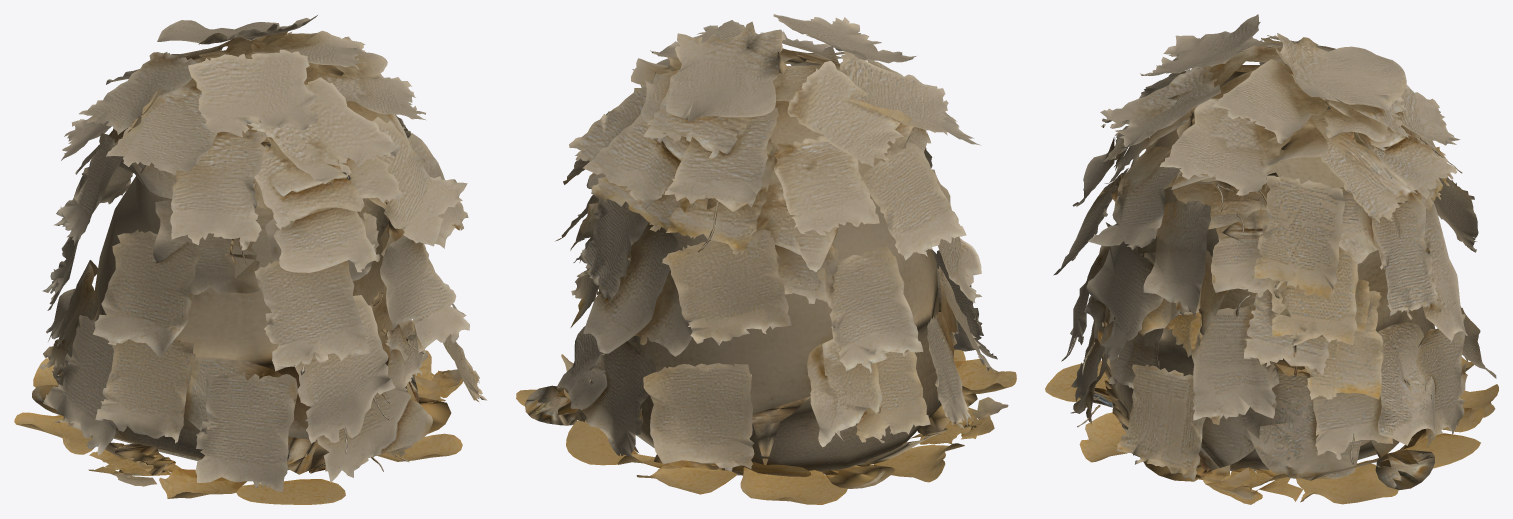
3 renders of one model, left to right at view 1: azimuth 30°, elevation 25°; view 2: azimuth 150°, elevation 25°; view 3: azimuth 270°, elevation 25°, orthographic. The views are drawn at different scales.
Parts seen in each view (by area): view 1: tripo_node_c6f9e751-fbdb-47df-adfd-26e5e247d4d4; view 2: tripo_node_c6f9e751-fbdb-47df-adfd-26e5e247d4d4; view 3: tripo_node_c6f9e751-fbdb-47df-adfd-26e5e247d4d4.
Part boxes in pixels (x1,y1,x2,y2): tripo_node_c6f9e751-fbdb-47df-adfd-26e5e247d4d4: (14,15,487,504); tripo_node_c6f9e751-fbdb-47df-adfd-26e5e247d4d4: (516,14,1016,504); tripo_node_c6f9e751-fbdb-47df-adfd-26e5e247d4d4: (1045,14,1498,504).
Bounding box in the file's own units: 0.998 × 0.916 × 0.998.
Materials: 1 (1 with a texture image).
